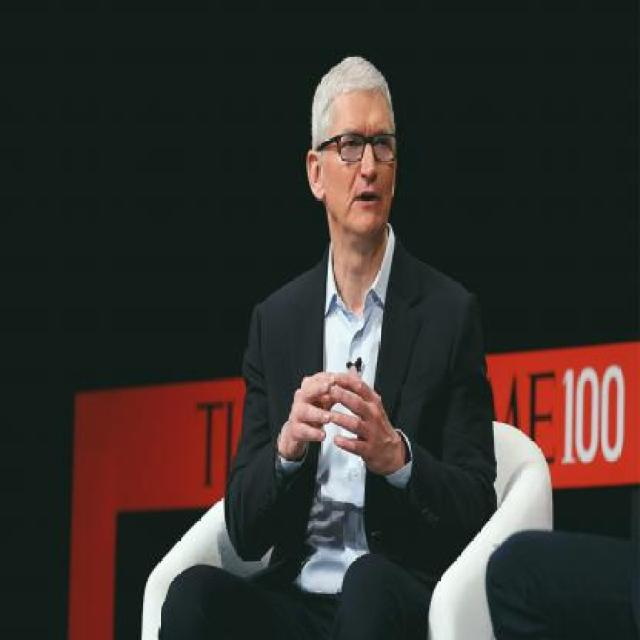sem_oculos: (284, 121, 431, 155)
